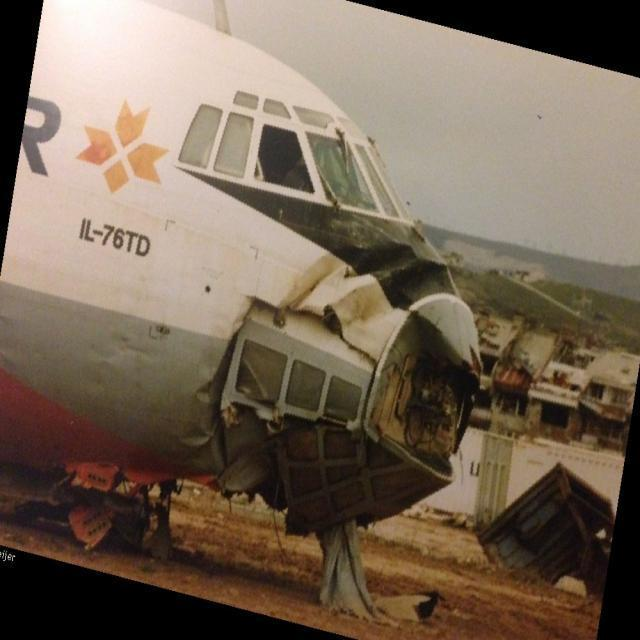dent: (180, 426, 215, 446), (198, 388, 210, 401)
